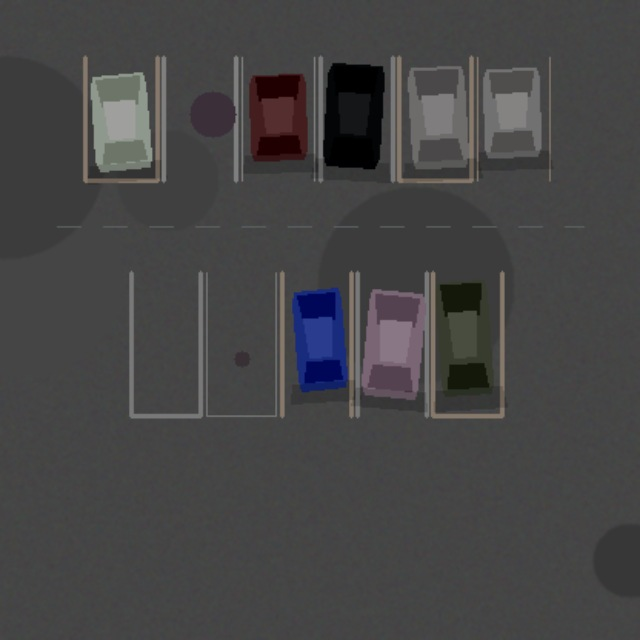space-empty: (131, 272, 200, 415), (206, 272, 275, 415), (163, 57, 235, 180)
space-occupied: (432, 272, 502, 415), (282, 272, 351, 415), (357, 272, 426, 415), (398, 57, 471, 180), (85, 57, 157, 180), (242, 57, 314, 180), (320, 57, 392, 180), (477, 57, 549, 180)
